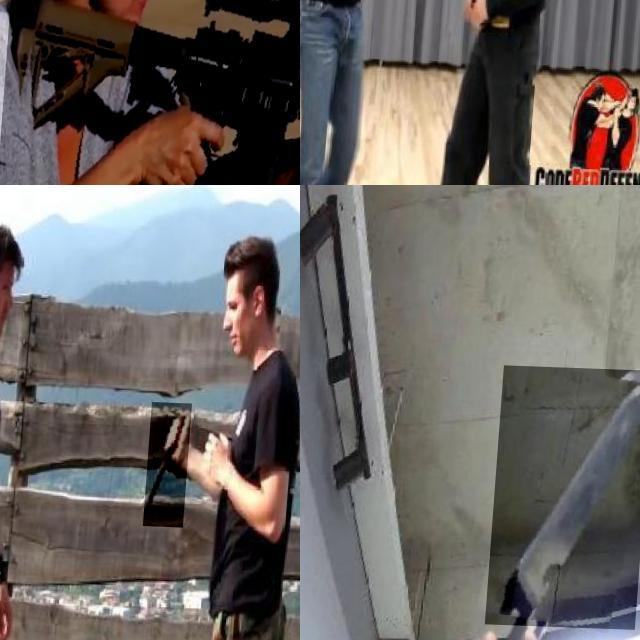-: (493, 362, 640, 625), (149, 400, 196, 525), (329, 0, 383, 24)
gun-knife-thesis - v11 Yolov5 augmented: (0, 0, 300, 185)
